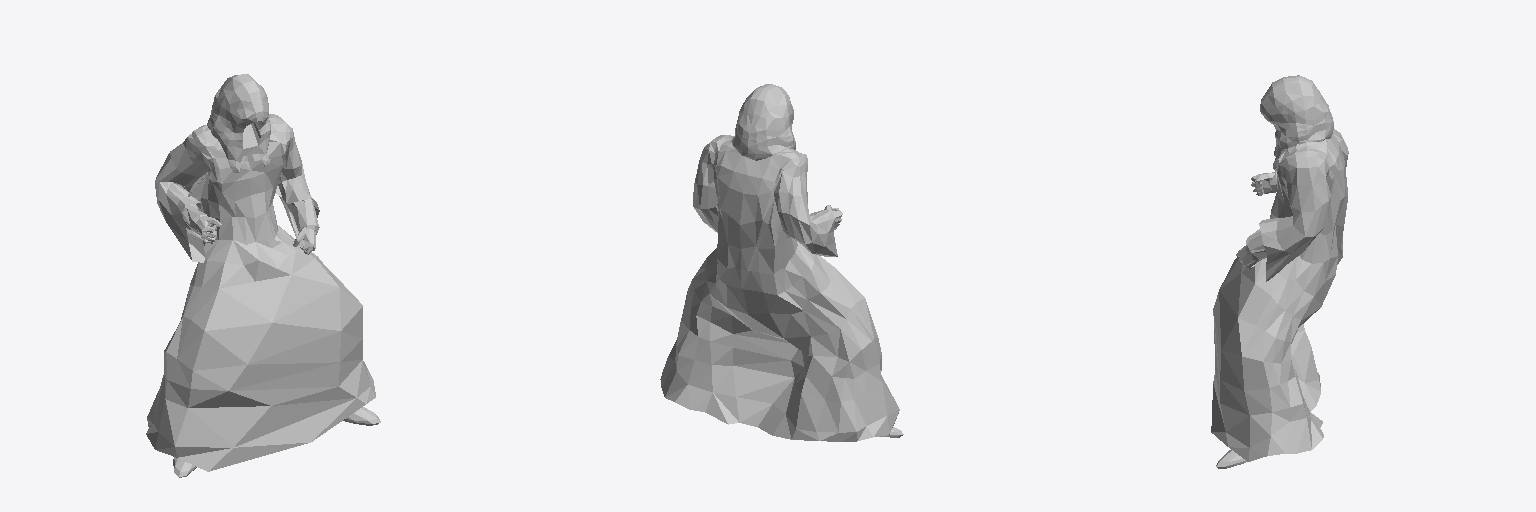
Rendered from Fellbeast_Animate_Flying_23.obj.
The picture shows the model from 3 angles: view 1: azimuth 30°, elevation 25°; view 2: azimuth 150°, elevation 25°; view 3: azimuth 270°, elevation 25°; orthographic projection.
Parts seen in each view (by area): view 1: dm_nazgulrobe_ride_241108; view 2: dm_nazgulrobe_ride_241108; view 3: dm_nazgulrobe_ride_241108.
Boxes of the visible parts, x1=… form: dm_nazgulrobe_ride_241108: x1=146, y1=74, x2=380, y2=477; dm_nazgulrobe_ride_241108: x1=660, y1=84, x2=903, y2=441; dm_nazgulrobe_ride_241108: x1=1211, y1=75, x2=1348, y2=468.
Bounding box in the file's own units: 0.4416 × 0.6689 × 0.2366.